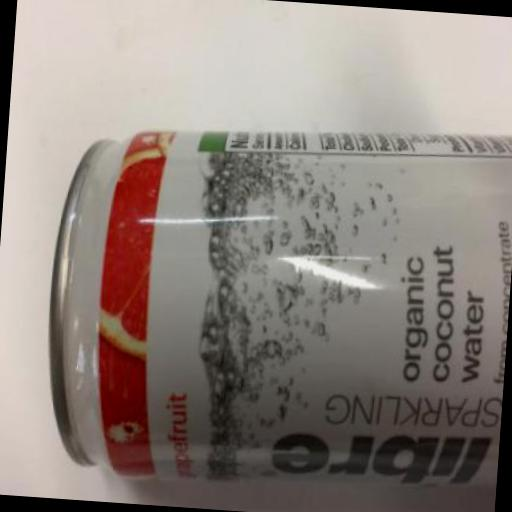metal: (37, 103, 512, 502)
